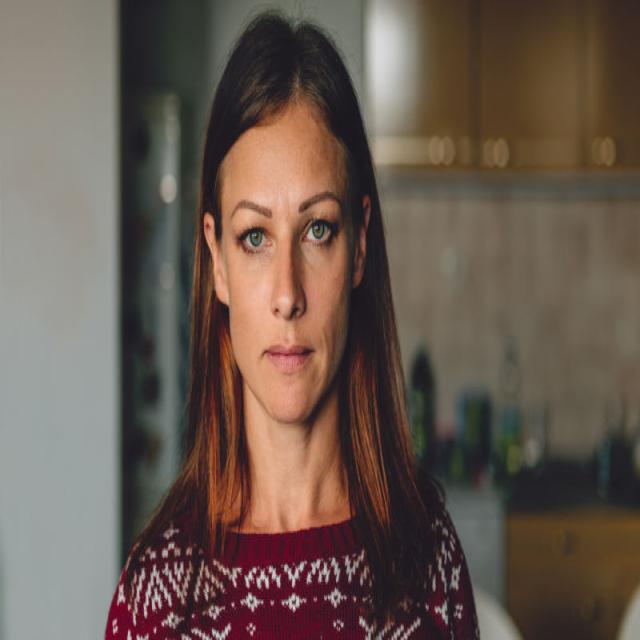mobile_phonerotation: (104, 9, 482, 637)
